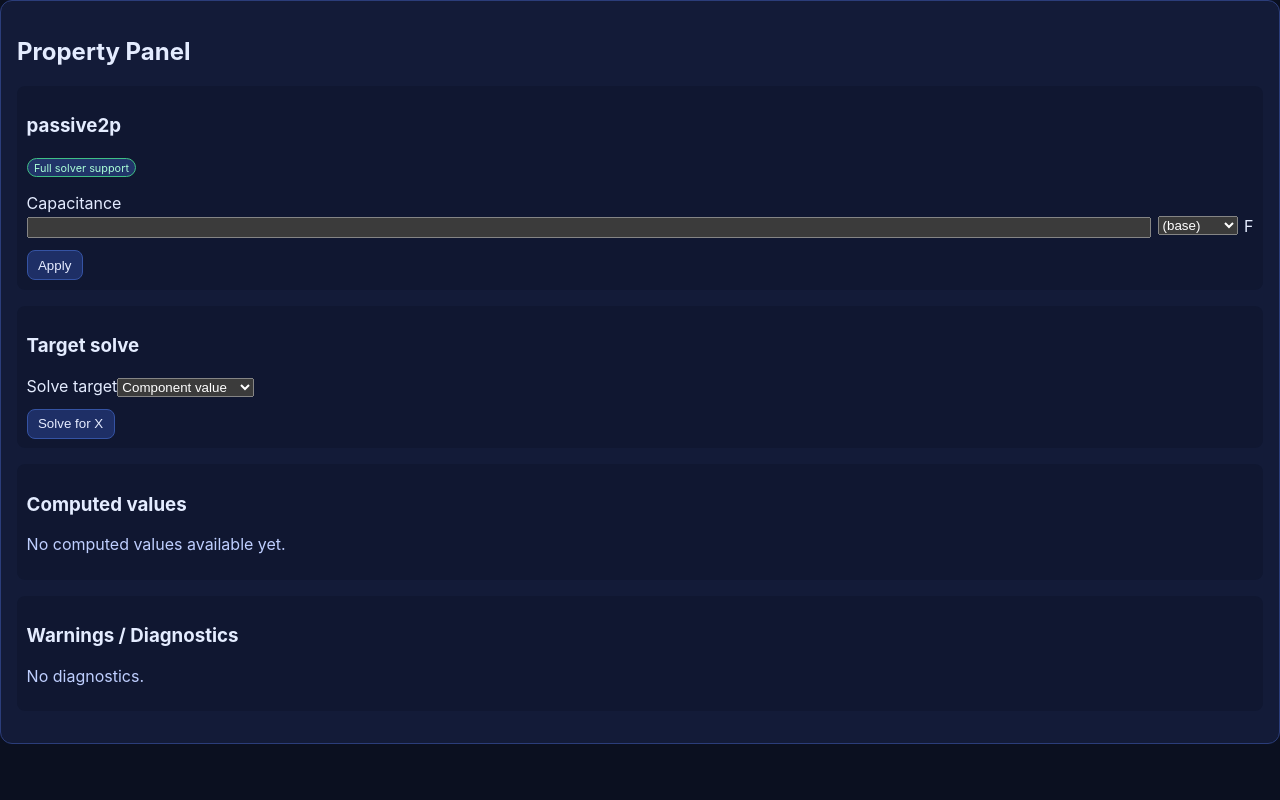
it: PropertyPanel updates and rendering › shows validation for incompatible units
This screenshot has width=1280, height=800.
Type "2mA" into the field at (589, 228), box left=27, top=217, right=1151, bottom=238
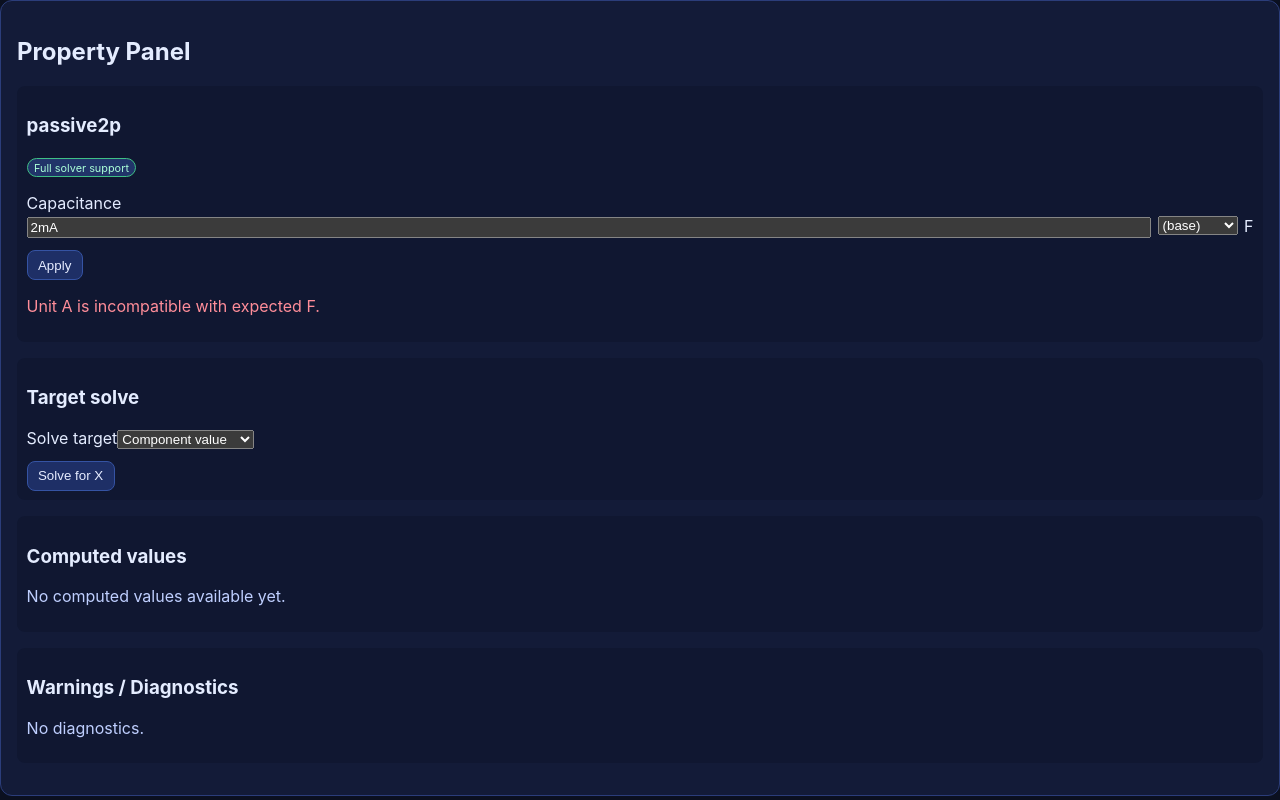
Expected: the button "Apply" is disabled, left=27, top=250, right=83, bottom=280
Expected: the text "Unit A is incompatible with expected F." is shown, left=27, top=296, right=320, bottom=316
